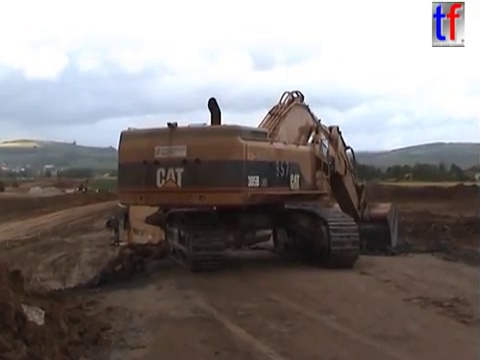excavator: (113, 85, 402, 270), (61, 179, 97, 198)
truck: (104, 199, 276, 273), (10, 178, 21, 189), (1, 177, 6, 194)
